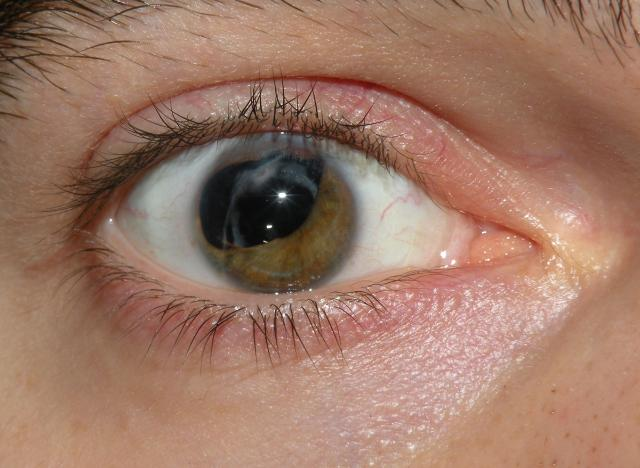eye: (192, 132, 366, 296)
